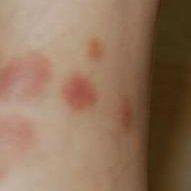Fleas: (0, 53, 51, 102), (55, 68, 104, 117), (0, 114, 33, 172), (80, 36, 107, 62), (115, 98, 131, 132)
